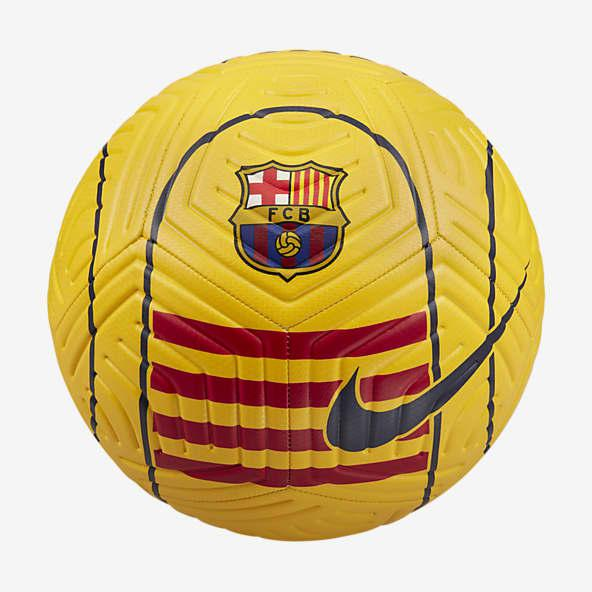sphere: (47, 50, 545, 541)
